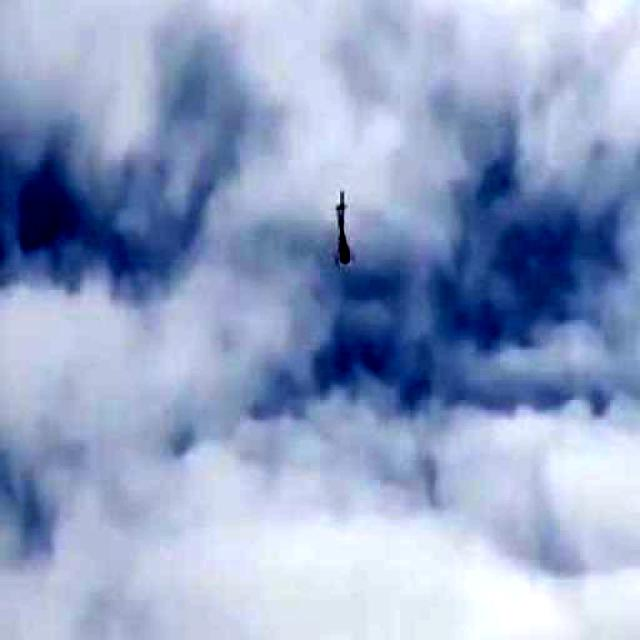drone: (292, 162, 396, 292)
